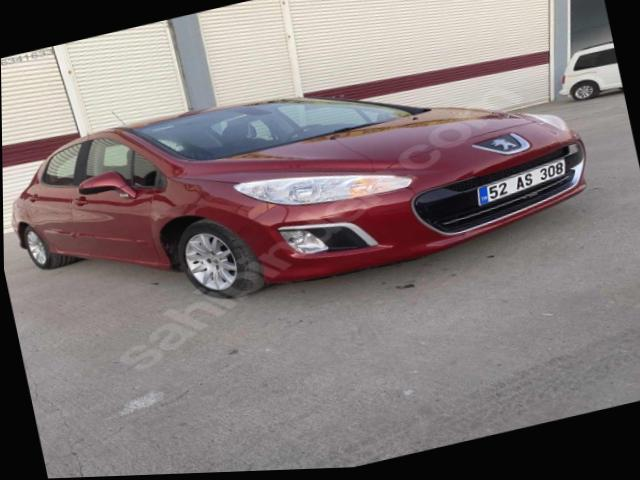plaka: (477, 159, 565, 204)
